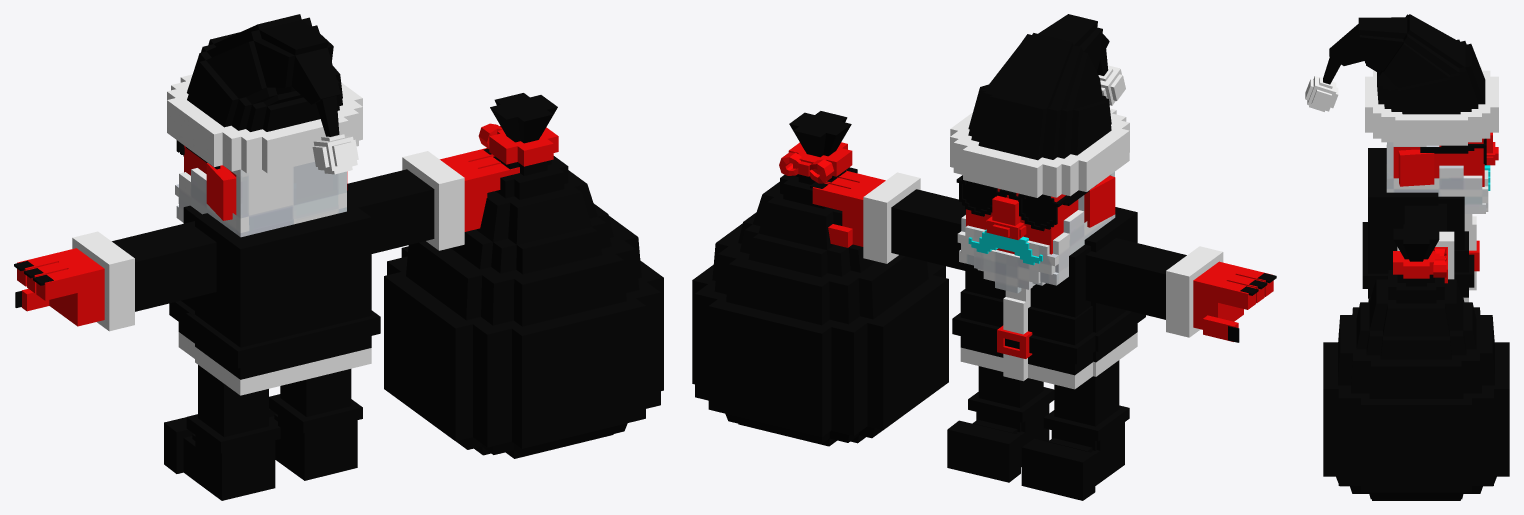
File: steal_a_brainrot_santteo.glb
3 renders of one model, left to right at view 1: azimuth 30°, elevation 25°; view 2: azimuth 150°, elevation 25°; view 3: azimuth 270°, elevation 25°, orthographic. The views are drawn at different scales.
Visible parts, largest first — view 1: Object_10, Object_8, Object_13, Object_6, Object_14, Object_4, Object_5; view 2: Object_10, Object_8, Object_13, Object_6, Object_14, Object_4, Object_12, Object_7, Object_5, Object_9, Object_11; view 3: Object_10, Object_8, Object_14, Object_13, Object_6, Object_4, Object_5, Object_12, Object_7.
Part boxes in pixels (box(x1,y1,x2,y2)): Object_10: box(112, 14, 663, 458); Object_8: box(72, 74, 464, 395); Object_13: box(164, 140, 380, 500); Object_6: box(17, 145, 519, 326); Object_14: box(175, 161, 346, 237); Object_4: box(478, 123, 558, 166); Object_5: box(206, 163, 347, 220); Object_10: box(692, 14, 1186, 446); Object_8: box(863, 65, 1223, 389); Object_13: box(947, 175, 1145, 500); Object_6: box(812, 170, 1273, 341); Object_14: box(957, 172, 1115, 293); Object_4: box(779, 142, 1032, 358); Object_12: box(798, 114, 1052, 226); Object_7: box(985, 195, 1026, 239); Object_5: box(1084, 175, 1115, 227); Object_9: box(968, 229, 1042, 265); Object_11: box(810, 171, 1276, 342); Object_10: box(1323, 14, 1509, 500); Object_8: box(1305, 67, 1498, 302); Object_14: box(1386, 142, 1488, 213); Object_13: box(1362, 138, 1486, 288); Object_6: box(1393, 138, 1484, 283); Object_4: box(1393, 240, 1479, 278); Object_5: box(1398, 149, 1434, 186); Object_12: box(1398, 226, 1434, 241); Object_7: box(1486, 132, 1498, 165).
Size of the model in its own units: 14.03 by 10.43 by 5.39.
11 materials, 11 textured.
